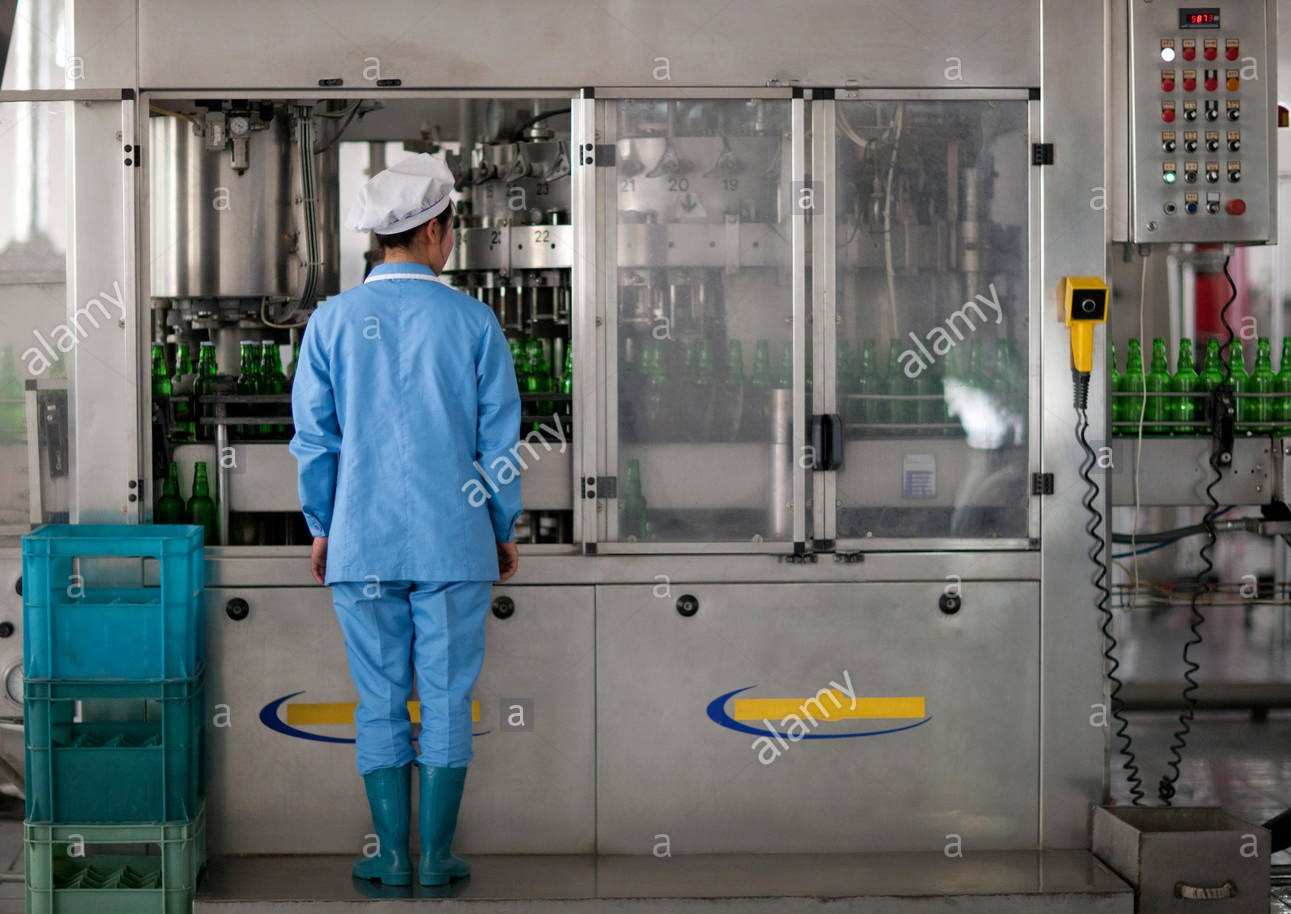noepi: (290, 150, 527, 902)
